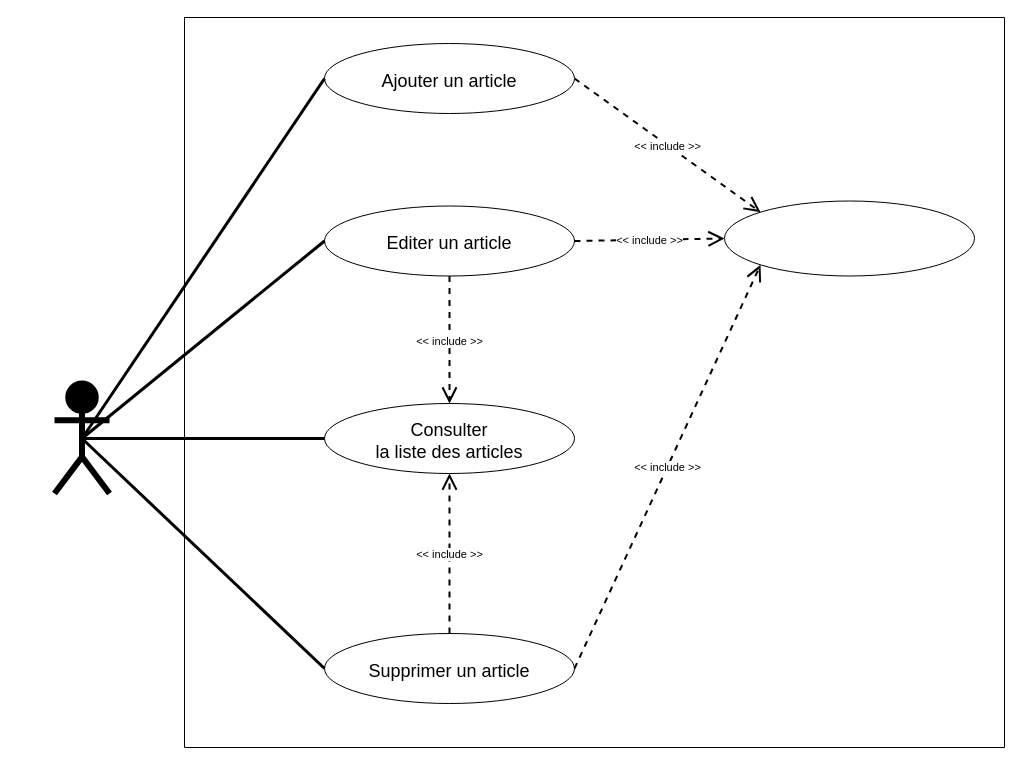
Image size: 1022x765. Some labels were removed from this diagram. The shapes that lost their labels are listed below. From the top down, each one's centre as x and y in pixels, then its label:
the point at 849,238: Se connecter
the point at 81,438: Administrateur
